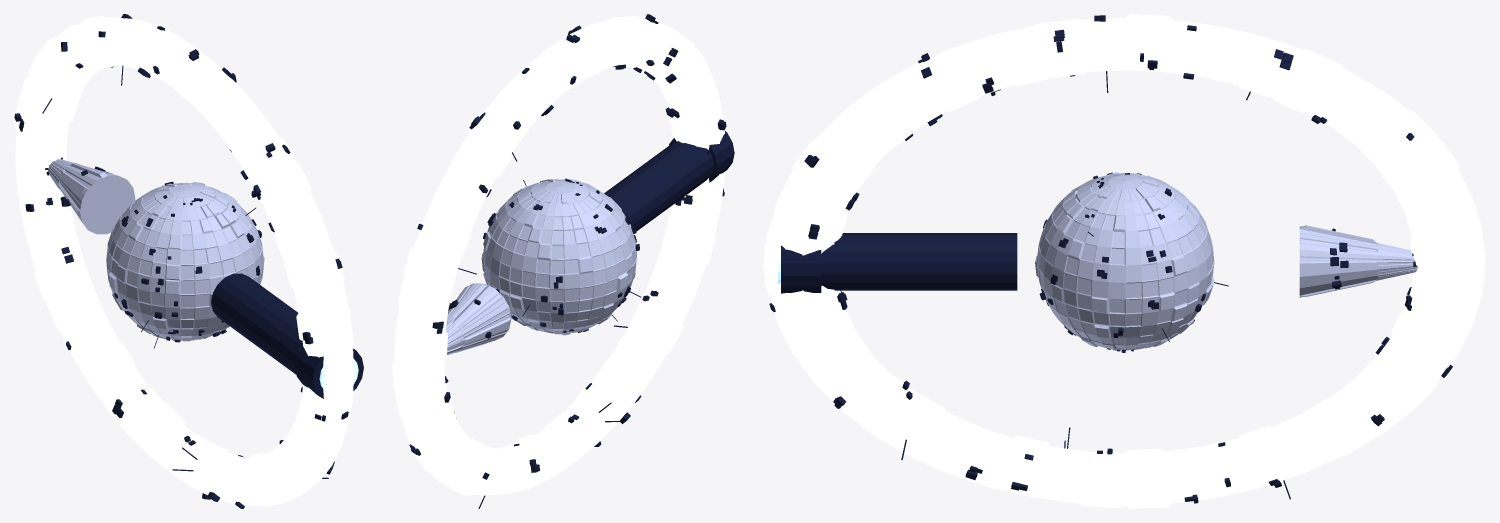
The model's file is velari_small.glb.
3 renders of one model, left to right at view 1: azimuth 30°, elevation 25°; view 2: azimuth 150°, elevation 25°; view 3: azimuth 270°, elevation 25°, orthographic. The views are drawn at different scales.
Visible parts, largest first — view 1: velari_small; view 2: velari_small; view 3: velari_small.
Part boxes in pixels (box(x1,y1,x2,y2)): velari_small: box(14, 14, 363, 508); velari_small: box(392, 14, 734, 508); velari_small: box(763, 14, 1485, 508).
Bounding box in the file's own units: 2.51 × 7.5 × 10.03.
